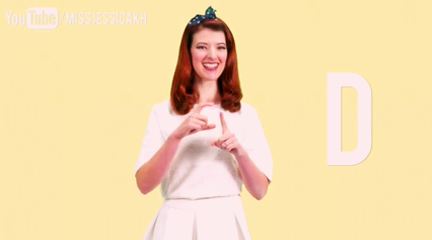D: (177, 98, 244, 162)
